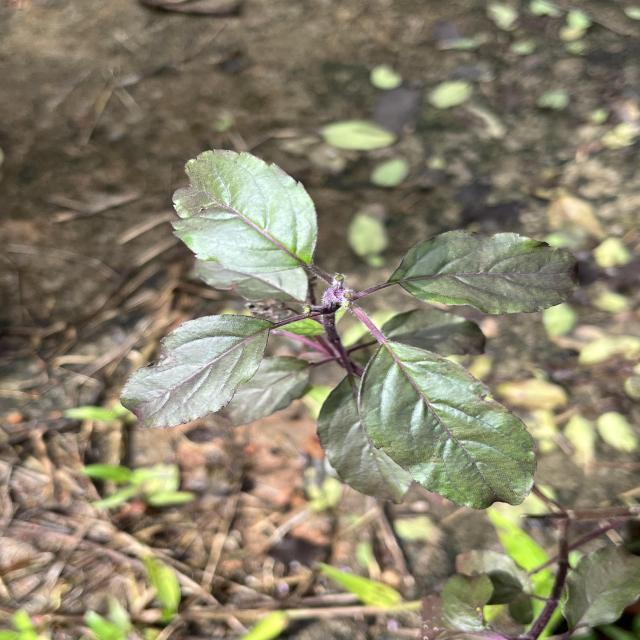Ocimum tenuiflorum: (356, 340, 540, 511), (170, 148, 320, 276), (118, 314, 276, 431), (386, 228, 582, 316)
